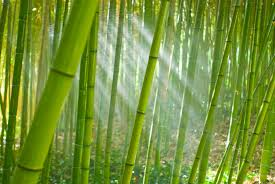bamboo: (9, 5, 268, 171)
